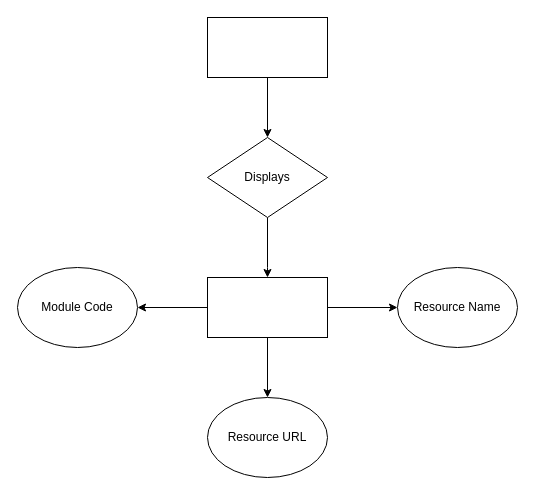
Image size: 535x495. Some labels were removed from this diagram. The centre of each missing label's shape, as x and y in pixels:
User: the point at 267,47
Website Resources: the point at 267,307
